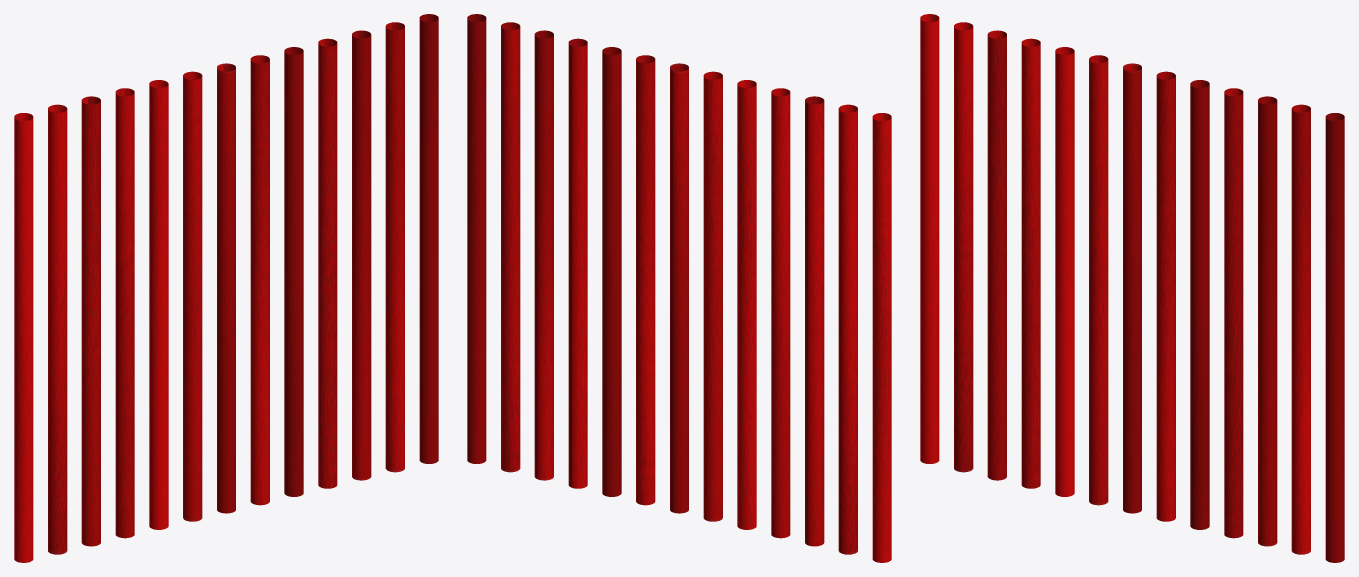
File: Laser.fbx
3 views of the same model, side by side, from view 1: azimuth 30°, elevation 25°; view 2: azimuth 150°, elevation 25°; view 3: azimuth 330°, elevation 25° (orthographic).
Parts seen in each view (by area): view 1: Cylinder001; view 2: Cylinder001; view 3: Cylinder001.
Part boxes in pixels (x1,y1,x2,y2): Cylinder001: (14,14,438,562); Cylinder001: (467,14,891,562); Cylinder001: (920,14,1344,562).
Size of the model in its own units: 250 by 250 by 9.85.
1 material, 1 textured.
